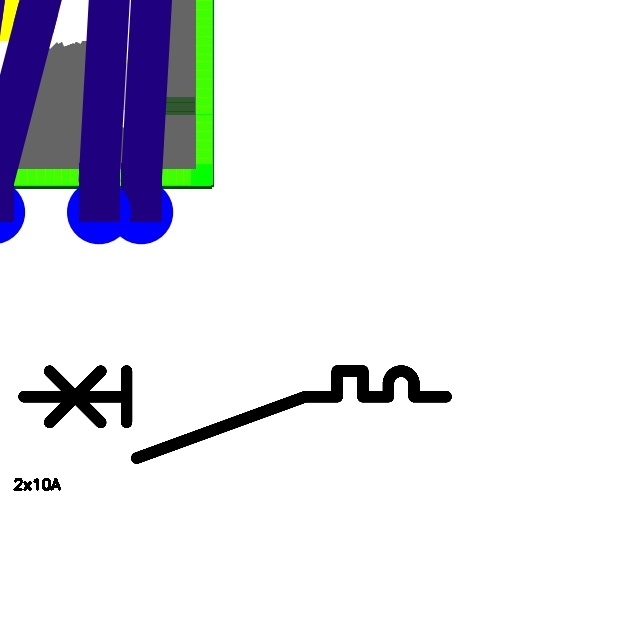interruptor_termomagnetico: (13, 360, 457, 469)
